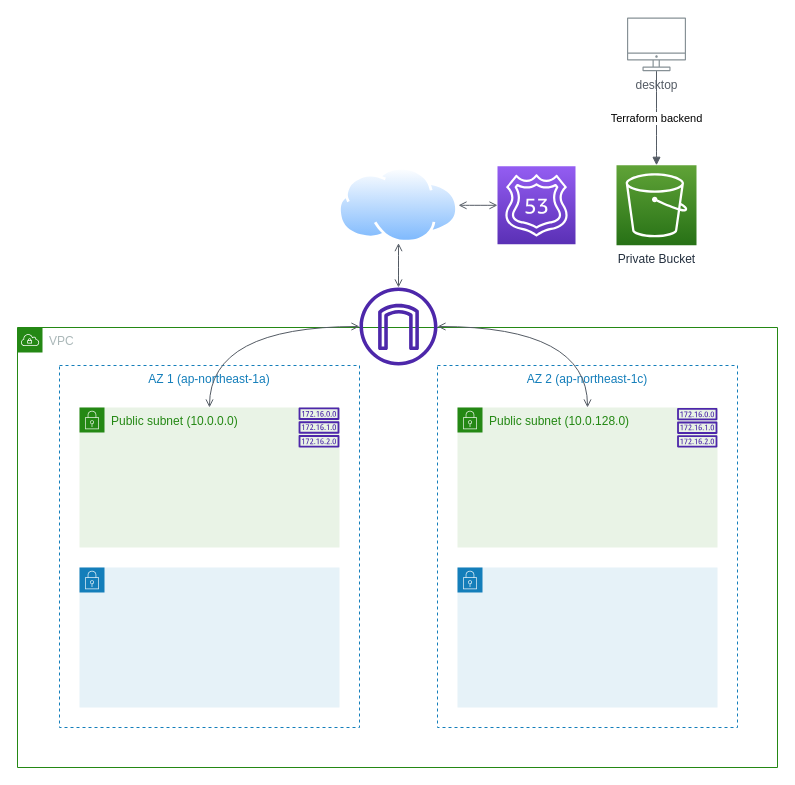
The diagram is 795 pixels wide and 785 high, and some of its shapes have lost their labels. Here are the shapes that lost their labels. From the top down, the centre of each, then its label:
At (x=536, y=204): "Manages DNS".
At (x=209, y=637): "Private subnet (10.0.16.0)".
At (x=587, y=637): "Private subnet (10.0.144.0)".
